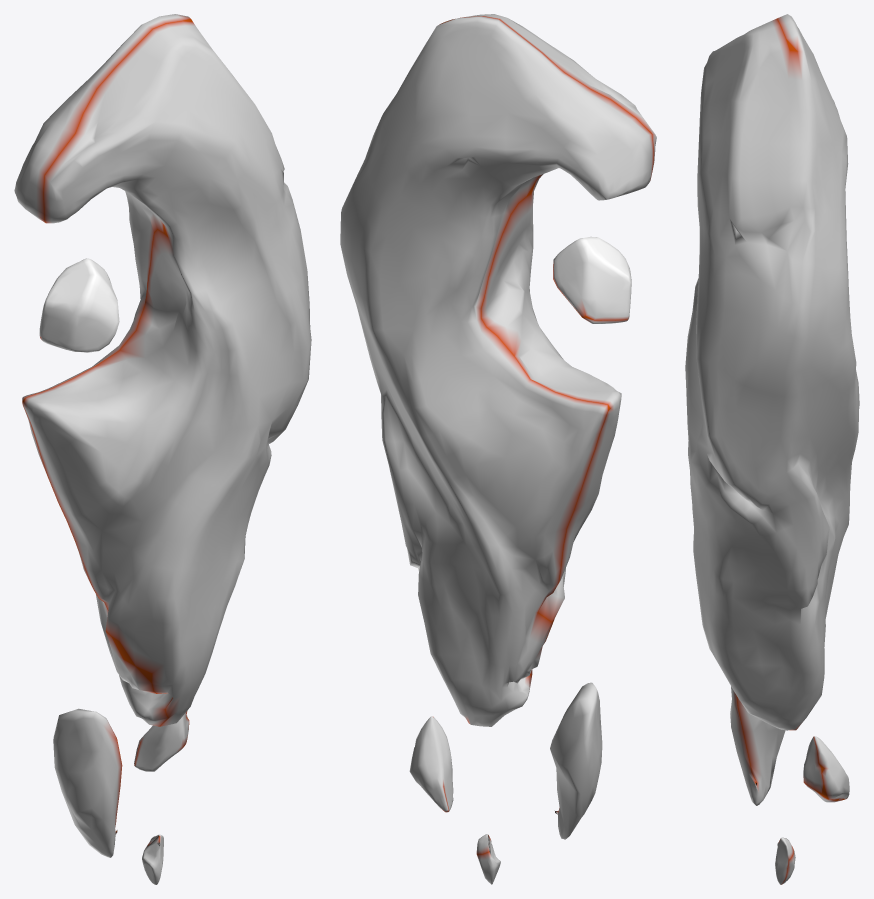
Rendered from Rock Prop.fbx.
3 views of the same model, side by side, from view 1: azimuth 30°, elevation 25°; view 2: azimuth 150°, elevation 25°; view 3: azimuth 270°, elevation 25° (orthographic).
Parts seen in each view (by area): view 1: Merged_UMesh_Extract20_SeamsColor, Merged_UMesh_Extract201_SeamsColor; view 2: Merged_UMesh_Extract20_SeamsColor, Merged_UMesh_Extract201_SeamsColor; view 3: Merged_UMesh_Extract20_SeamsColor.
Boxes of the visible parts, box(x1,y1,x2,y2) form: Merged_UMesh_Extract20_SeamsColor: box(14, 14, 311, 884); Merged_UMesh_Extract201_SeamsColor: box(39, 258, 119, 352); Merged_UMesh_Extract20_SeamsColor: box(340, 14, 656, 884); Merged_UMesh_Extract201_SeamsColor: box(553, 236, 631, 323); Merged_UMesh_Extract20_SeamsColor: box(685, 14, 859, 884).
Bounding box in the file's own units: 2.16 × 6.22 × 1.13.
